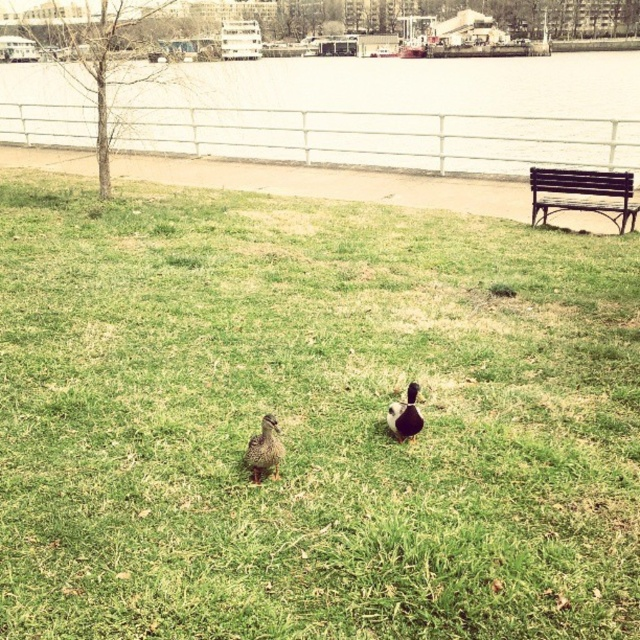Duck: (371, 386, 434, 451), (236, 413, 295, 479)
